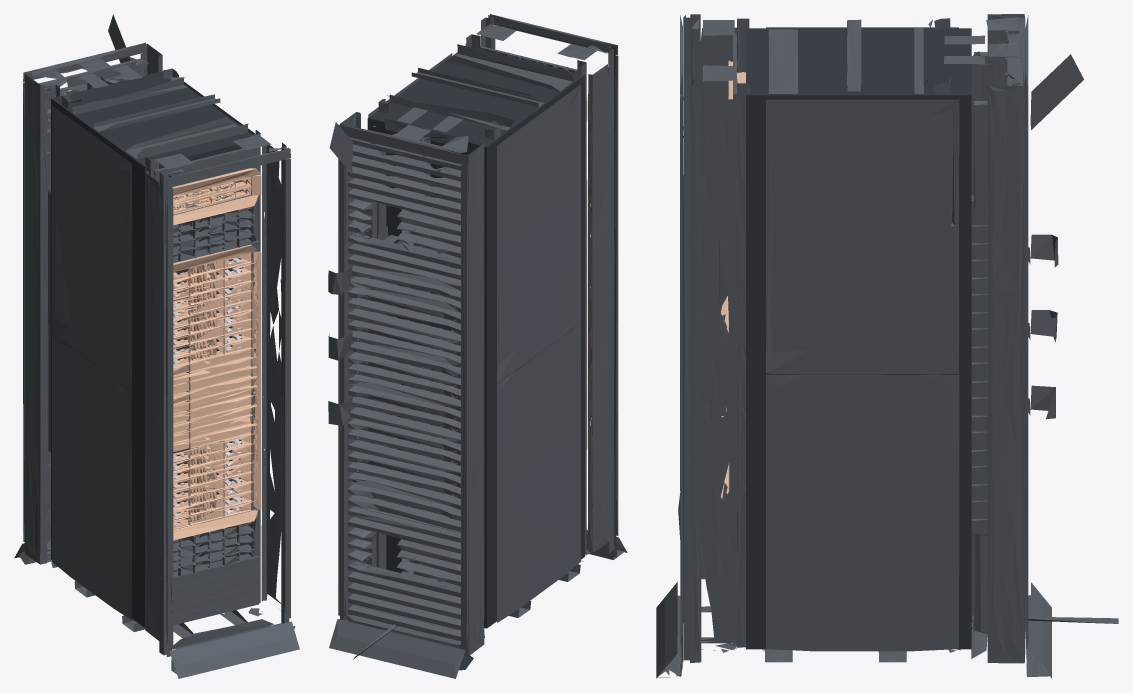
Rendered from hardware_gb300_rack.glb.
3 renders of one model, left to right at view 1: azimuth 30°, elevation 25°; view 2: azimuth 150°, elevation 25°; view 3: azimuth 270°, elevation 25°, orthographic. The views are drawn at different scales.
Visible parts, largest first — view 1: gb300_0; view 2: gb300_0; view 3: gb300_0.
Boxes of the visible parts, <box> form: gb300_0: <box>14,14,299,678</box>; gb300_0: <box>328,14,627,678</box>; gb300_0: <box>656,14,1118,678</box>.
Bounding box in the file's own units: 0.5696 × 2.08 × 1.41.
Materials: 2 (2 with a texture image).
